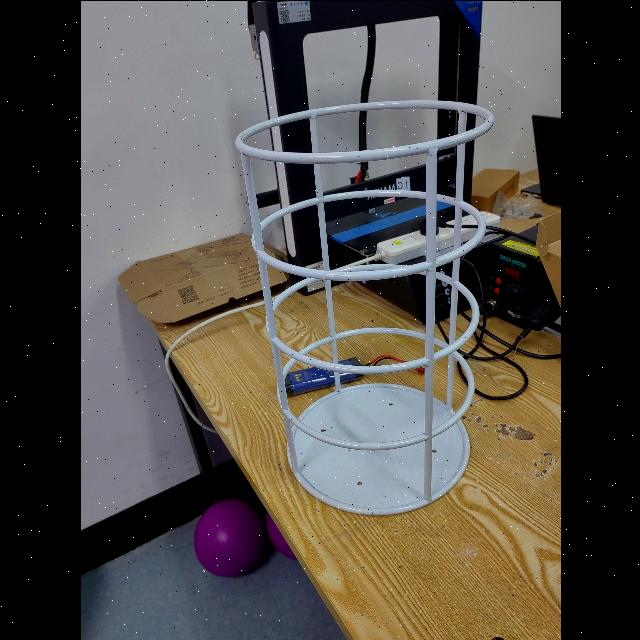S: (228, 91, 496, 518)
